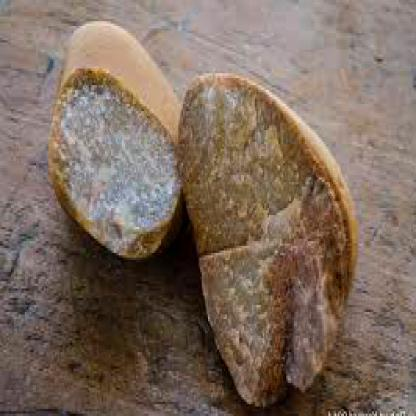Metamorphic_Quartize: (177, 55, 370, 412), (42, 7, 197, 281)
